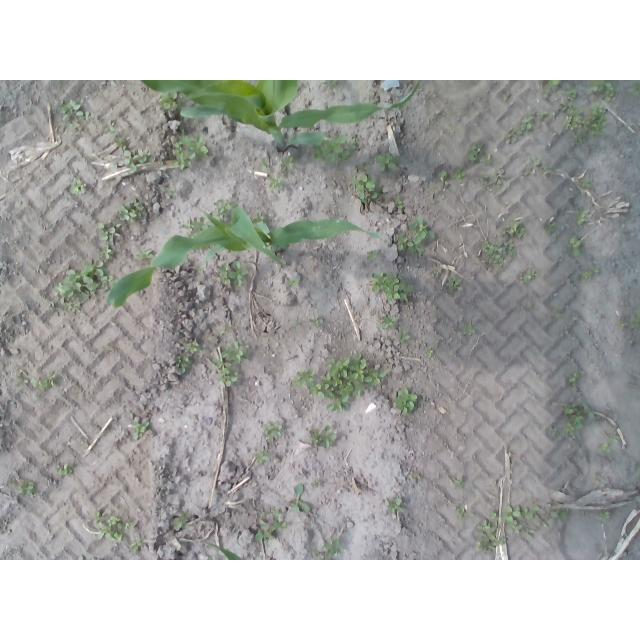Maize: (106, 199, 382, 309), (141, 81, 421, 155), (204, 541, 244, 560)
Weeds: (290, 354, 388, 413), (472, 504, 569, 550), (56, 245, 115, 312), (476, 215, 526, 269), (557, 101, 609, 150), (395, 217, 438, 256), (215, 340, 249, 389), (350, 161, 383, 210), (506, 111, 551, 146), (564, 401, 597, 444), (173, 134, 210, 171), (371, 273, 416, 303), (315, 133, 357, 164), (93, 508, 132, 541), (250, 507, 286, 541), (59, 99, 94, 133), (171, 340, 202, 377), (116, 146, 148, 175), (306, 423, 338, 449), (480, 165, 509, 191), (218, 263, 250, 286), (118, 198, 146, 224), (395, 386, 418, 415), (289, 483, 311, 513), (212, 198, 241, 220), (616, 305, 640, 331), (469, 142, 496, 165), (312, 540, 342, 560), (32, 369, 57, 392), (183, 215, 209, 237), (97, 220, 123, 242), (589, 81, 616, 100), (262, 421, 283, 444), (159, 91, 181, 112), (377, 152, 400, 172), (170, 510, 192, 530), (540, 80, 562, 100), (384, 496, 405, 516), (530, 154, 550, 175), (131, 420, 151, 440), (253, 447, 275, 465), (570, 235, 587, 258), (69, 178, 87, 199), (268, 174, 287, 191), (54, 461, 75, 476), (13, 370, 30, 388), (137, 247, 153, 265), (577, 209, 592, 228), (18, 480, 35, 496), (220, 320, 236, 337), (517, 269, 535, 284), (391, 193, 405, 212), (451, 166, 466, 183), (377, 316, 398, 328), (581, 268, 599, 282), (279, 154, 294, 170), (163, 184, 179, 199), (115, 134, 129, 151), (447, 277, 462, 292), (567, 372, 580, 388), (322, 80, 342, 90), (103, 119, 117, 133), (451, 477, 466, 490), (253, 212, 268, 225), (284, 277, 300, 289), (463, 323, 475, 338), (309, 315, 324, 327), (100, 343, 116, 354), (310, 479, 327, 489), (545, 221, 556, 236), (566, 89, 582, 99), (593, 472, 606, 484), (368, 250, 381, 262), (455, 508, 469, 519), (260, 157, 270, 172), (432, 268, 445, 279), (411, 470, 421, 484), (597, 443, 611, 453), (131, 541, 143, 552), (399, 330, 409, 343), (503, 90, 513, 103), (438, 172, 448, 185), (548, 427, 560, 437), (633, 82, 640, 98), (600, 511, 611, 521), (609, 433, 620, 443), (581, 178, 592, 188), (426, 347, 435, 357), (79, 439, 90, 446), (635, 460, 640, 475), (588, 356, 596, 365), (555, 313, 566, 319), (524, 301, 533, 308)
